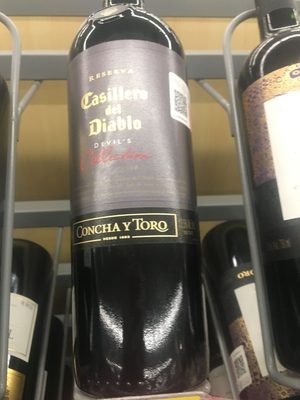casillero del diablo devils collection rojo: (61, 16, 204, 400)
